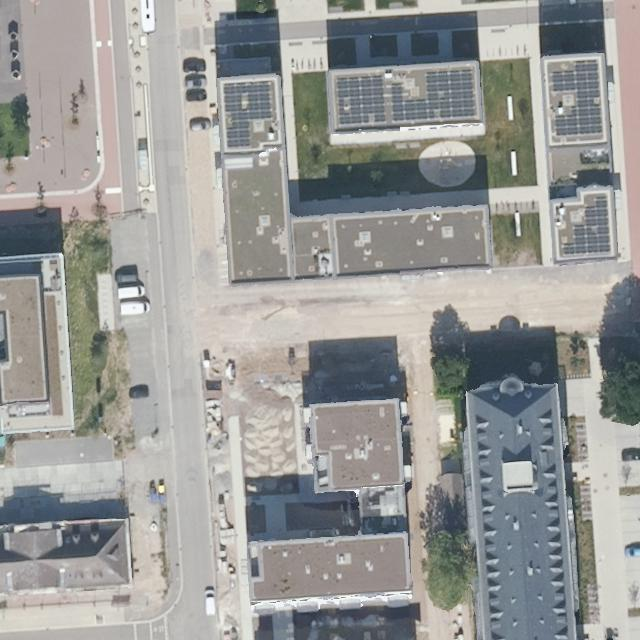PV: (334, 67, 478, 127), (551, 61, 604, 137), (222, 79, 275, 151), (561, 195, 612, 257)
